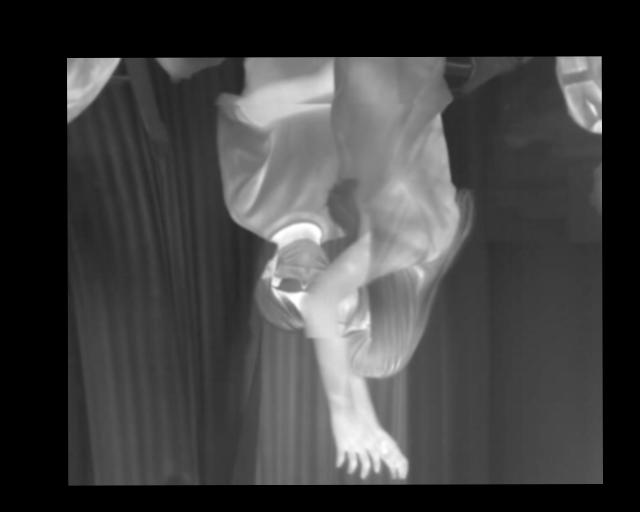face: (259, 240, 322, 335)
